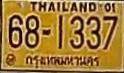1: (58, 14, 62, 48)
3: (86, 15, 100, 48), (69, 15, 83, 48)
6: (8, 14, 22, 47)
7: (102, 15, 117, 49)
8: (24, 14, 38, 47)
BKK: (22, 52, 100, 69)
